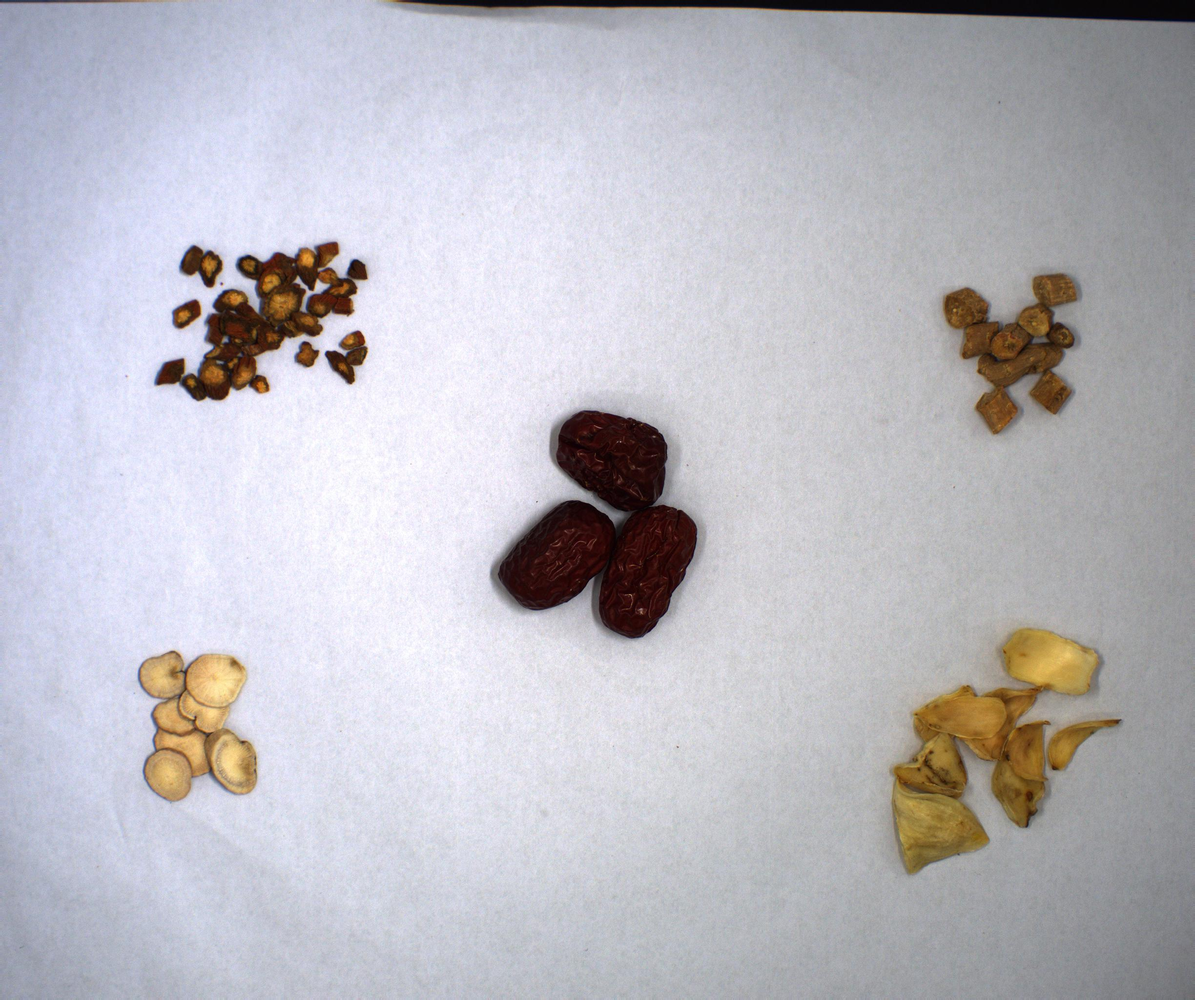baihe: (883, 614, 1130, 880)
baishao: (127, 636, 272, 818)
danshen: (147, 235, 379, 411)
dazao: (485, 394, 708, 656)
niuxi: (927, 266, 1094, 440)
